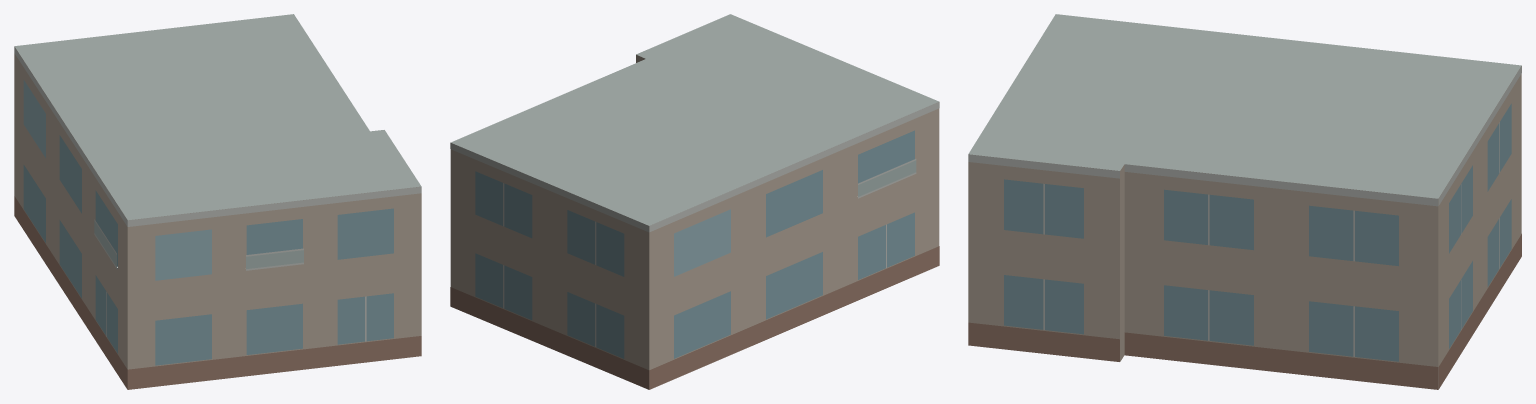
Rendered from survey-upis-32820869.glb.
The picture shows the model from 3 angles, left to right: view 1: azimuth 30°, elevation 25°; view 2: azimuth 150°, elevation 25°; view 3: azimuth 270°, elevation 25°; orthographic projection. The views are drawn at different scales.
Visible parts, largest first — view 1: survey-upis-32820869.tmp; view 2: survey-upis-32820869.tmp; view 3: survey-upis-32820869.tmp.
Boxes of the visible parts, box(x1,y1,x2,y2) form: survey-upis-32820869.tmp: box(14, 14, 421, 389); survey-upis-32820869.tmp: box(450, 14, 939, 389); survey-upis-32820869.tmp: box(968, 14, 1521, 389).
Bounding box in the file's own units: 12.66 × 6.1 × 16.03.
